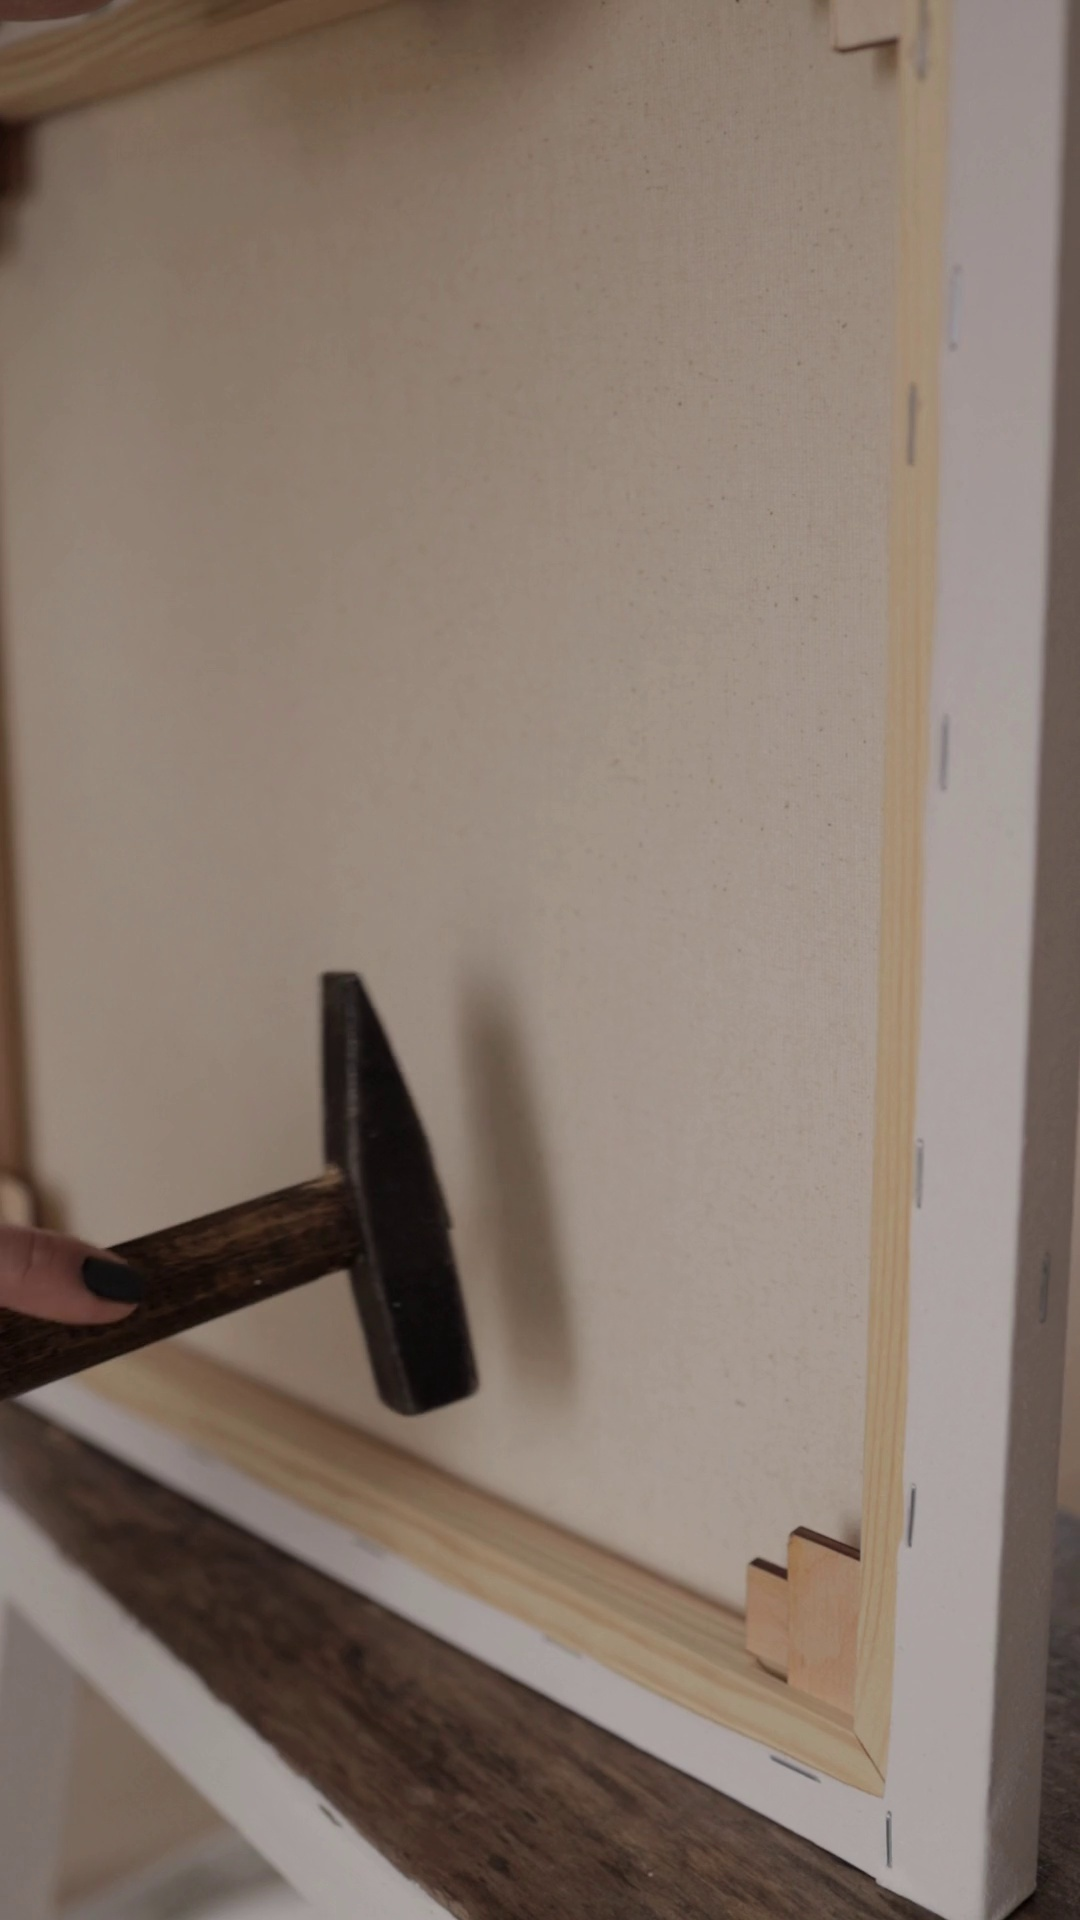hammer: (1, 963, 491, 1428)
